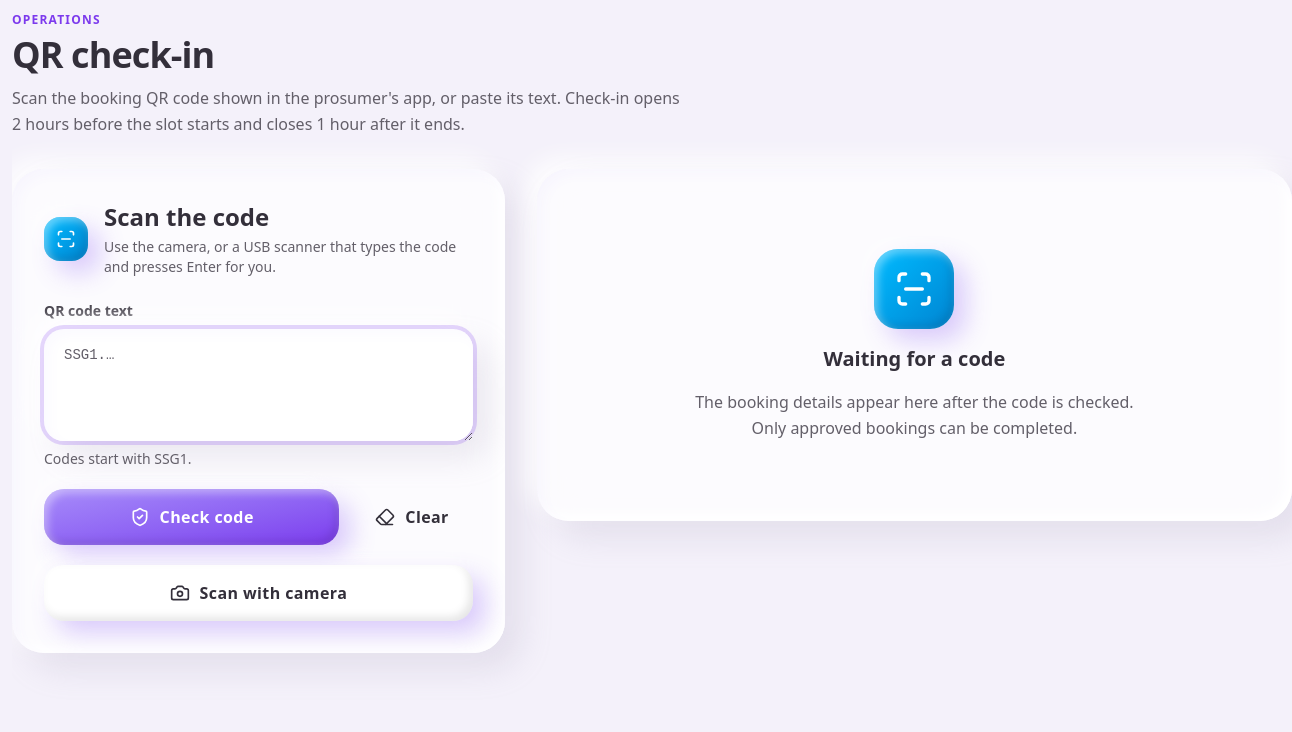
Test: CheckInPage › shows the API reason for a forged or old code
The image size is (1292, 732).
Type "SSG1.fake" into the text box labelled "QR code text" at (258,385), box [44,329,473,441]
Then press Enter
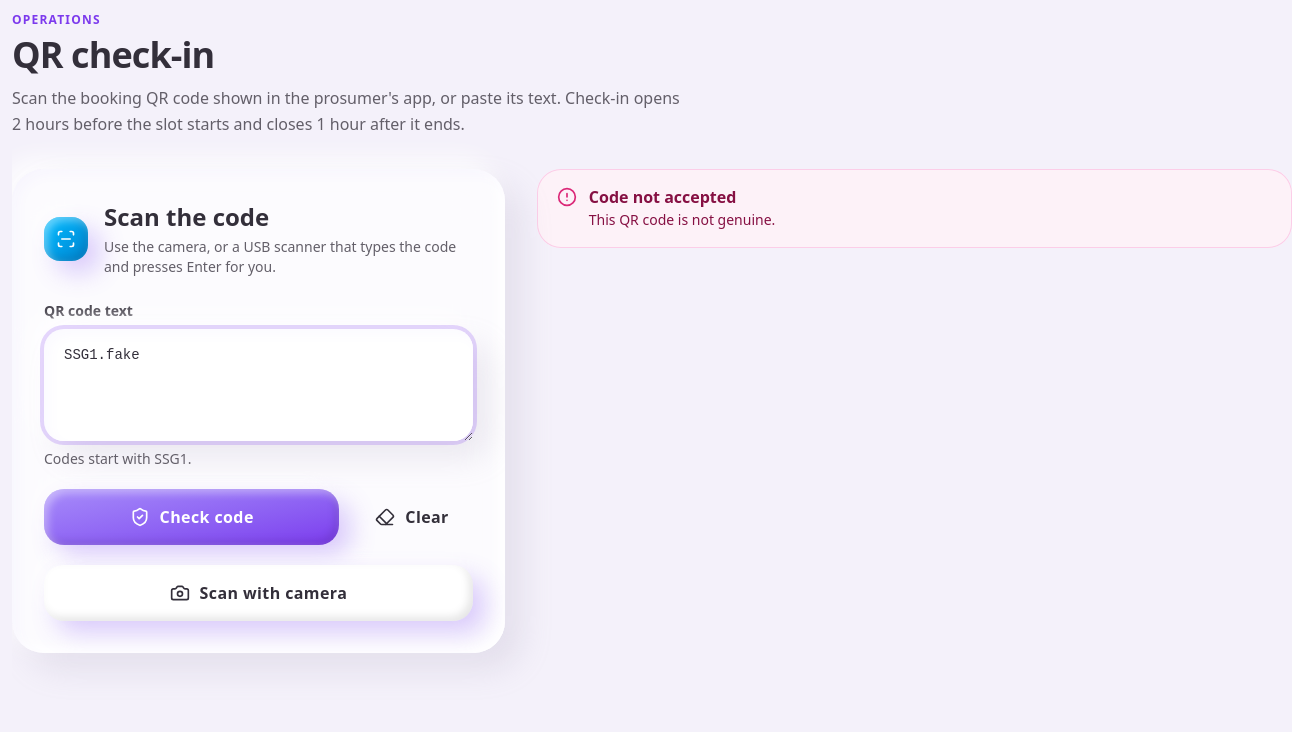
Now the message shows "This QR code is not genuine.", box [589,210,775,229]
